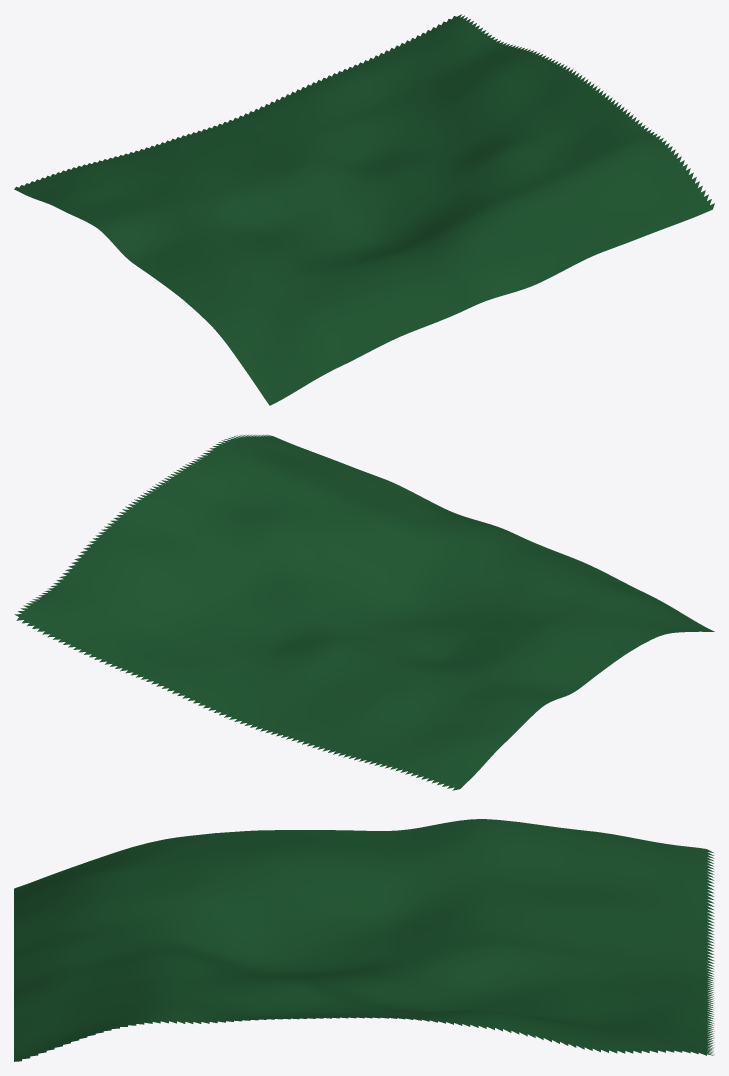
The model's file is payo_land_x2_ym1_lod1.glb.
The picture shows the model from 3 angles, top to bottom: view 1: azimuth 30°, elevation 25°; view 2: azimuth 150°, elevation 25°; view 3: azimuth 270°, elevation 25°; orthographic projection. The views are drawn at different scales.
Visible parts, largest first — view 1: payo_land_x2_ym1; view 2: payo_land_x2_ym1; view 3: payo_land_x2_ym1.
Boxes of the visible parts, x1=… form: payo_land_x2_ym1: x1=14, y1=14, x2=714, y2=405; payo_land_x2_ym1: x1=14, y1=434, x2=714, y2=790; payo_land_x2_ym1: x1=14, y1=819, x2=714, y2=1061.
Bounding box in the file's own units: 258 × 67.58 × 258.
